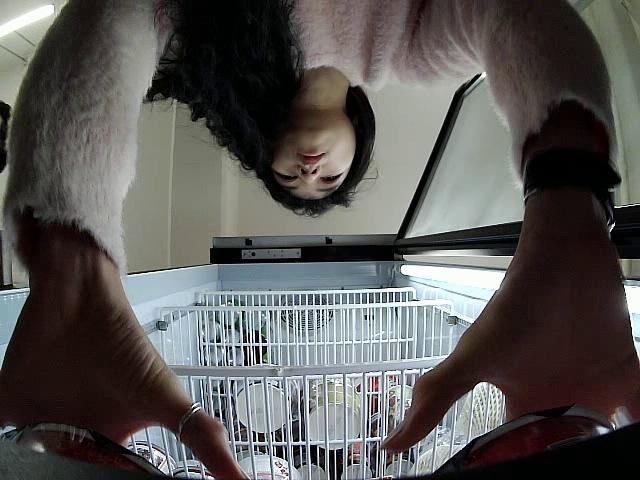01_ShinRamen_L: (428, 404, 616, 472)
